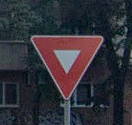cedeaza: (27, 32, 105, 101)
